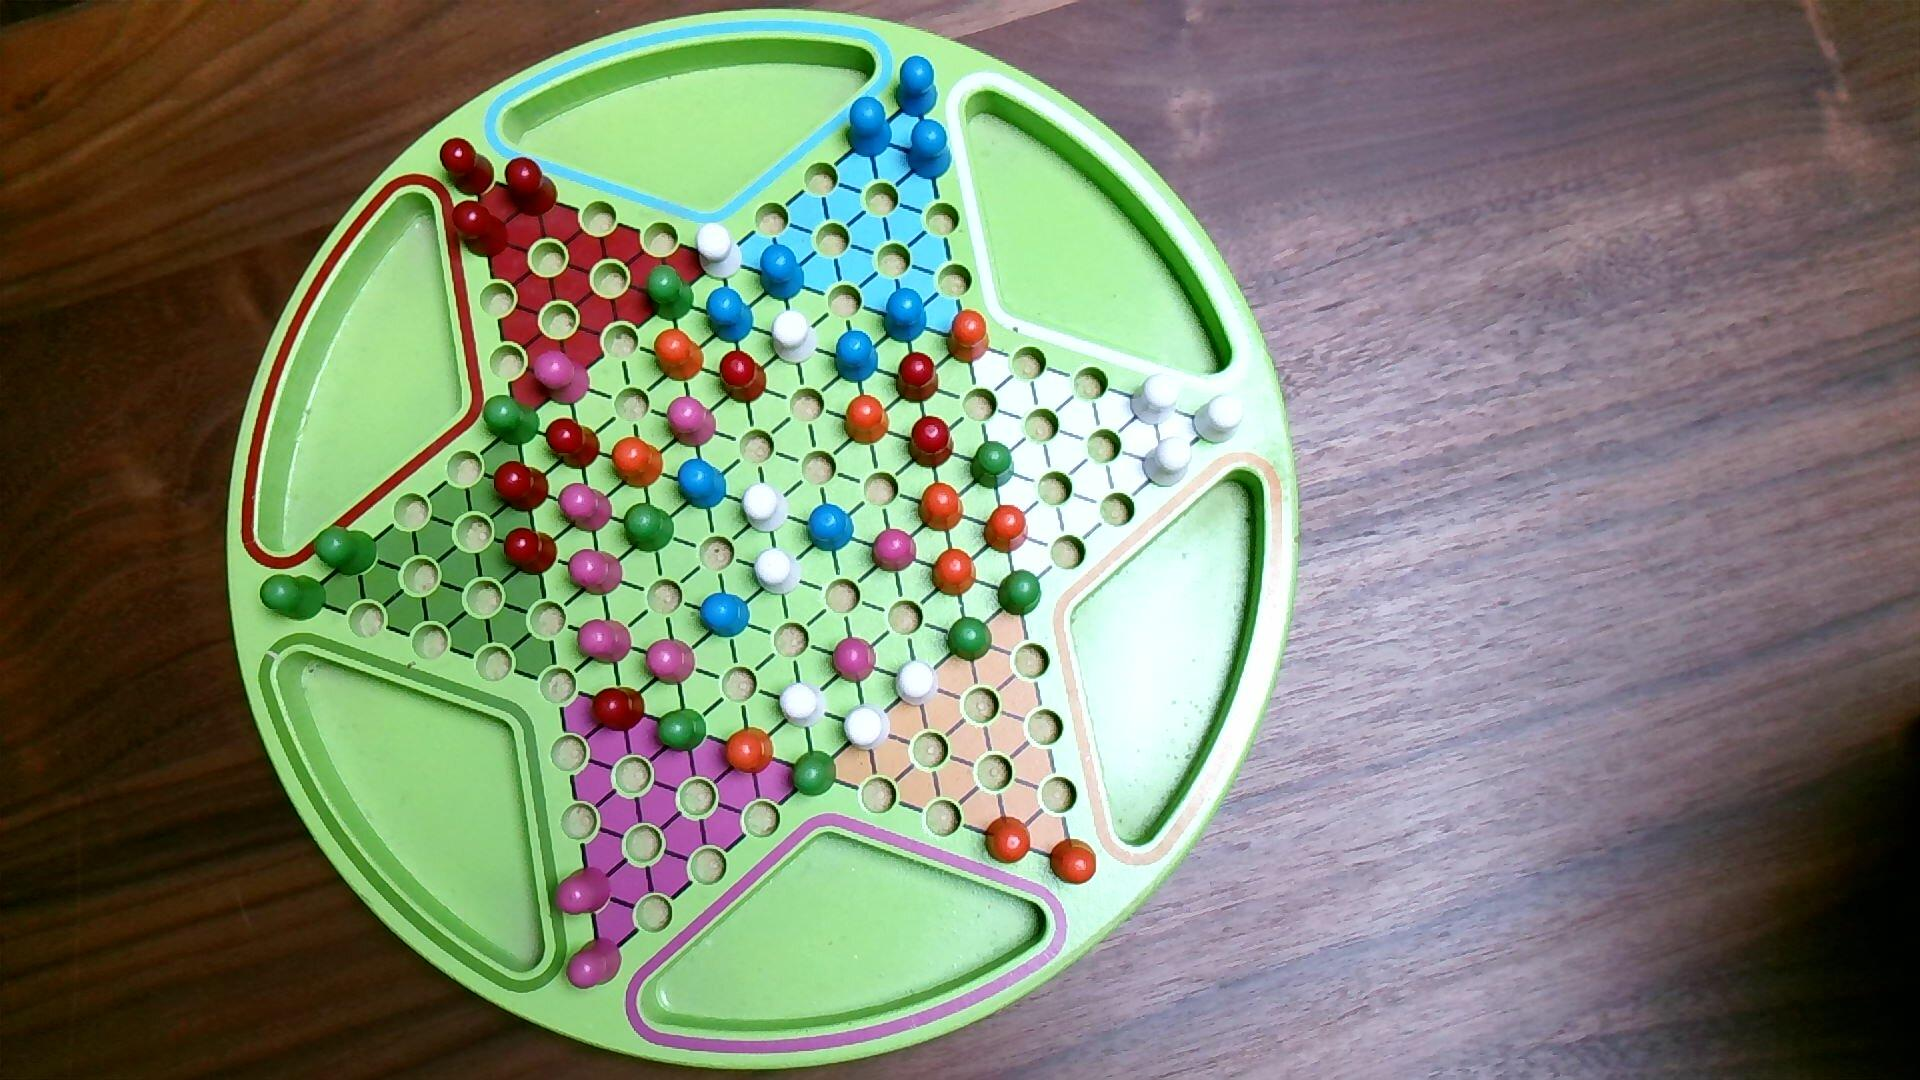B: (905, 117, 953, 182), (891, 55, 940, 119), (704, 286, 756, 345), (847, 96, 894, 160), (757, 243, 806, 303), (676, 458, 729, 512), (832, 328, 881, 385), (884, 287, 930, 347), (803, 502, 857, 553), (698, 591, 752, 640)
G: (313, 524, 380, 578), (258, 574, 328, 624), (481, 394, 542, 448), (644, 264, 696, 324), (622, 502, 676, 553), (787, 749, 837, 800), (654, 708, 709, 753), (997, 568, 1044, 618), (947, 616, 996, 663), (969, 440, 1015, 491)
O: (611, 435, 665, 492), (653, 328, 705, 384), (944, 309, 992, 367), (723, 727, 777, 775), (982, 504, 1031, 556), (916, 481, 965, 534), (843, 394, 891, 447), (1048, 837, 1098, 887), (984, 815, 1033, 866), (931, 547, 978, 599)
R: (502, 156, 560, 219), (439, 137, 497, 199), (451, 200, 510, 258), (545, 415, 603, 472), (493, 460, 551, 516), (717, 349, 769, 405), (502, 527, 559, 578), (591, 686, 647, 735), (907, 414, 956, 469), (894, 349, 942, 406)
R2: (531, 349, 593, 407), (564, 936, 625, 992), (553, 865, 615, 916), (556, 483, 615, 535), (567, 549, 625, 599), (576, 618, 634, 667), (666, 396, 719, 448), (645, 638, 698, 687), (829, 636, 880, 686), (872, 527, 918, 575)
W: (694, 222, 745, 282), (1191, 393, 1247, 447), (770, 309, 822, 367), (1139, 436, 1193, 491), (1129, 373, 1182, 427), (777, 680, 828, 731), (741, 483, 790, 535), (841, 702, 891, 752), (891, 658, 942, 708), (753, 547, 803, 597)
